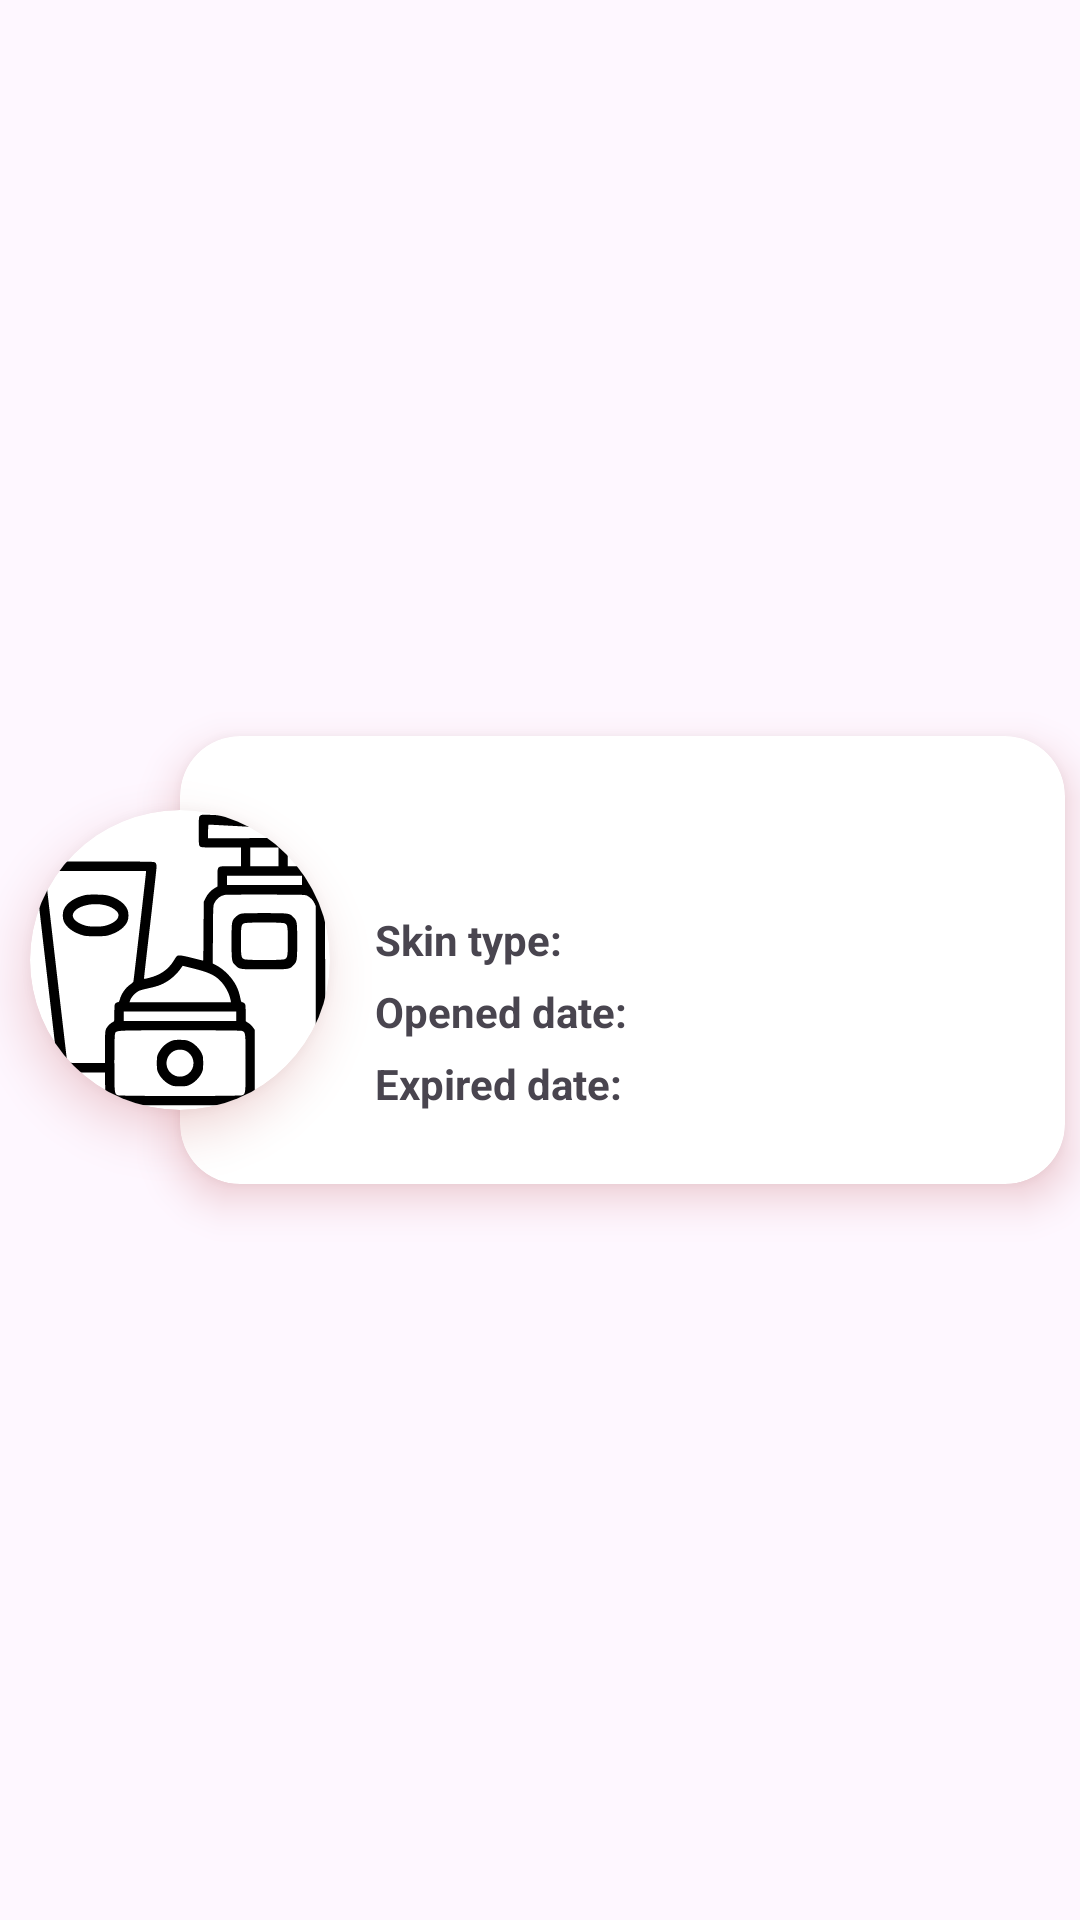

Icons on this 1080 x 1920 Android screen, each with the point to tap as point (x, y):
products: point (178, 960)
